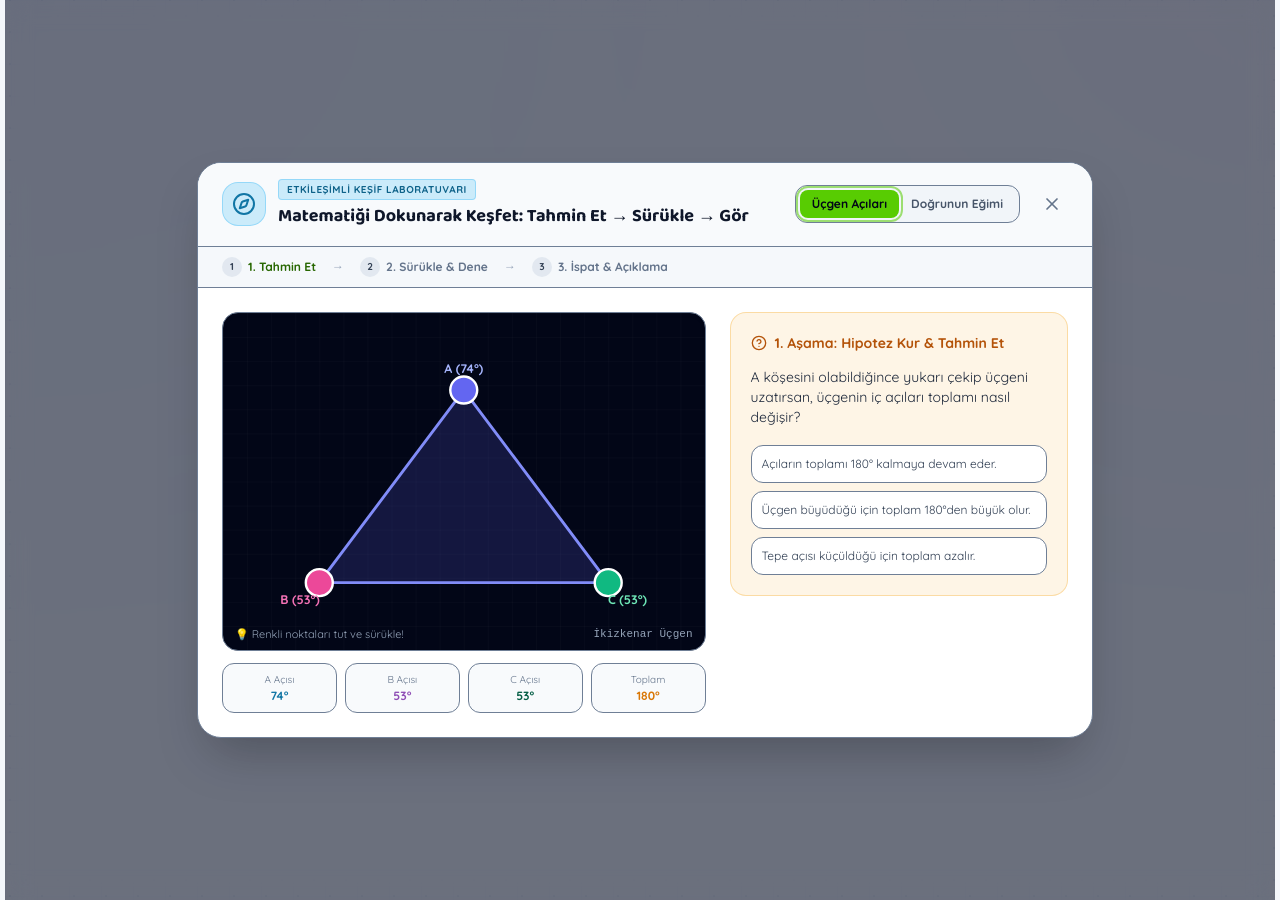
Test: InteractiveMathLabModal › tahmin yapılıp 2. Aşamaya geçilebilir
Click the button "Açıların toplamı 180° kalmaya devam eder.": {"x": 899, "y": 464} [750,445,1047,483]
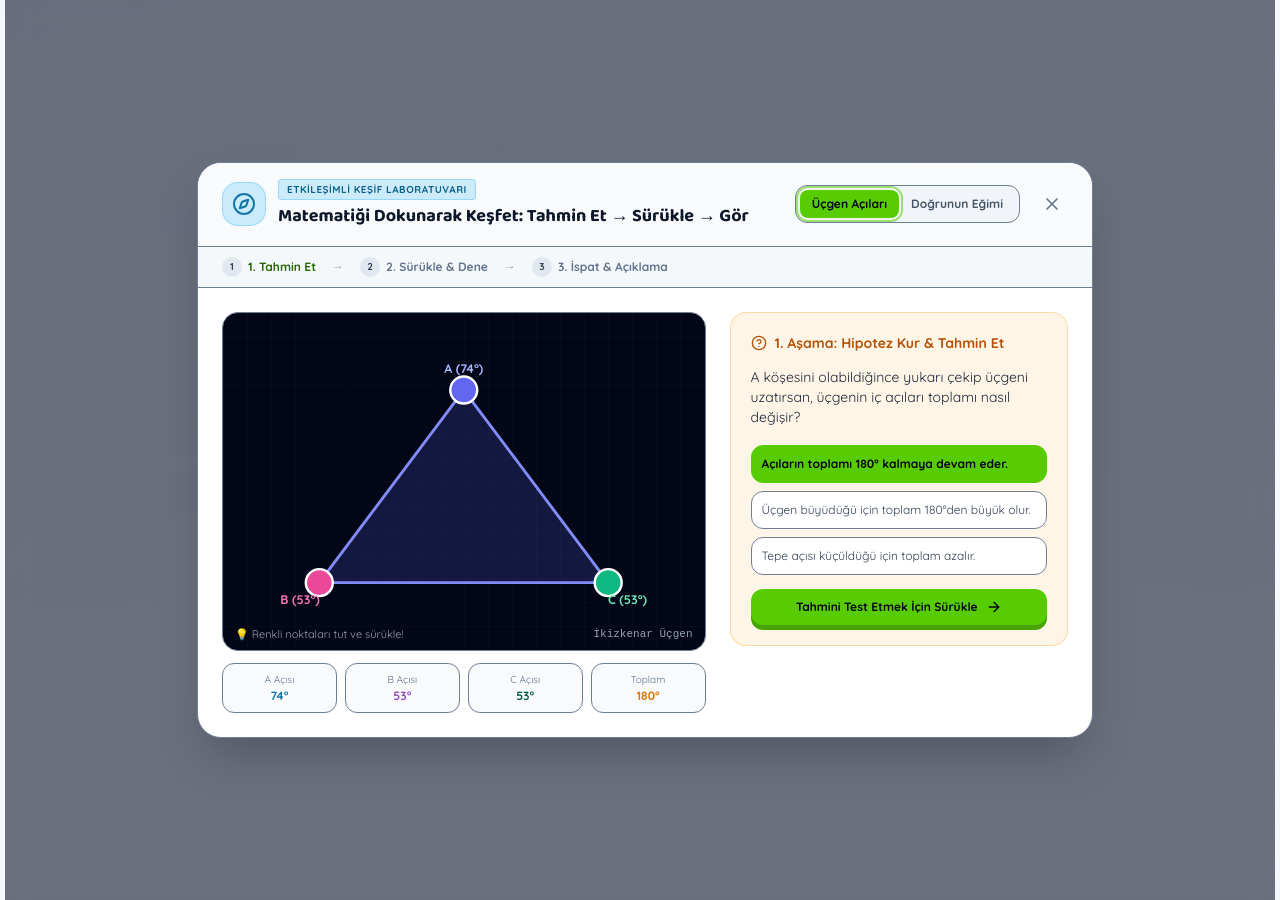
Click the button "Tahmini Test Etmek İçin Sürükle": {"x": 899, "y": 607} [750,589,1047,625]
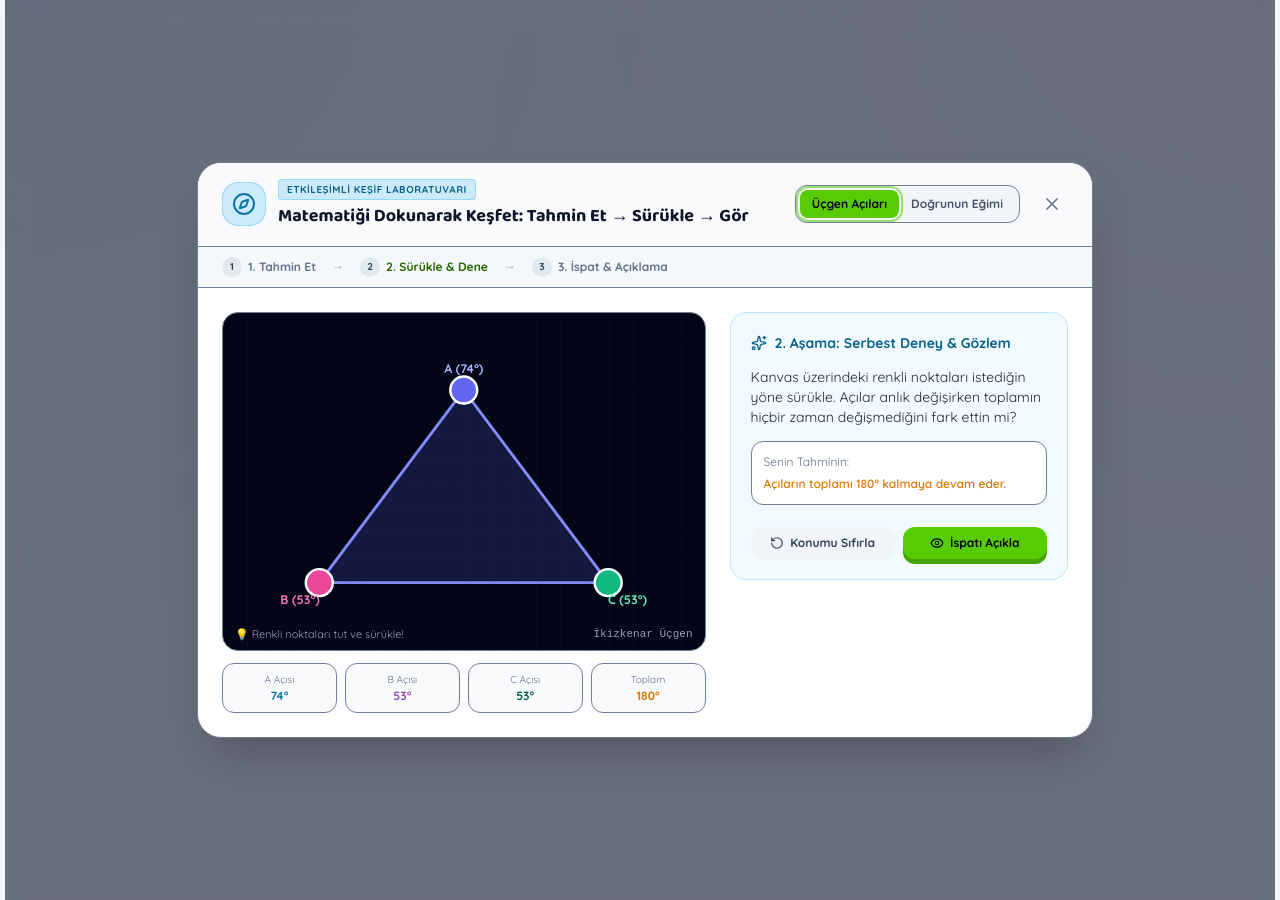
Check: the text "2. Aşama: Serbest Deney & Gözlem" is shown, box [774,333,1011,353]
